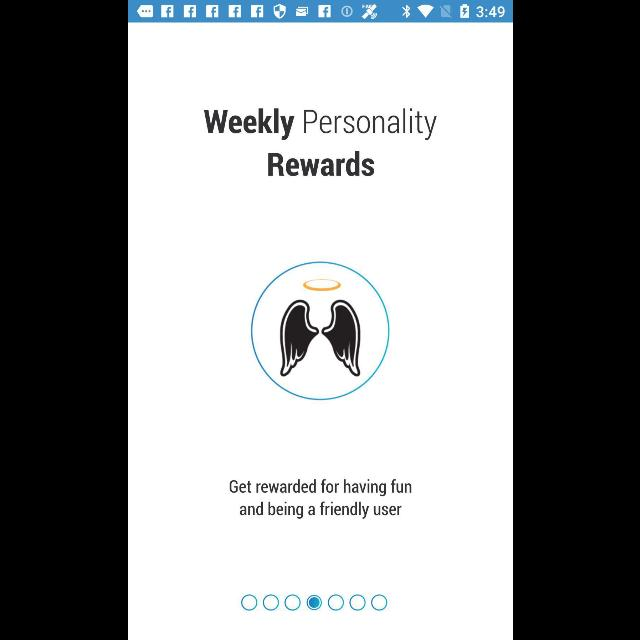image: (250, 262, 388, 401)
pageindicator: (239, 594, 387, 612)
text: (202, 107, 438, 177), (228, 478, 412, 520)
uppertaskbar: (128, 1, 512, 23)
